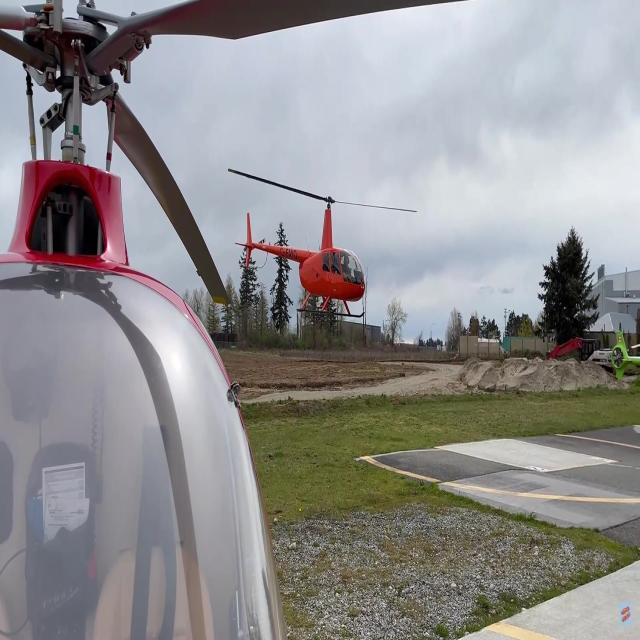CIV_HELO: (233, 195, 367, 324)
